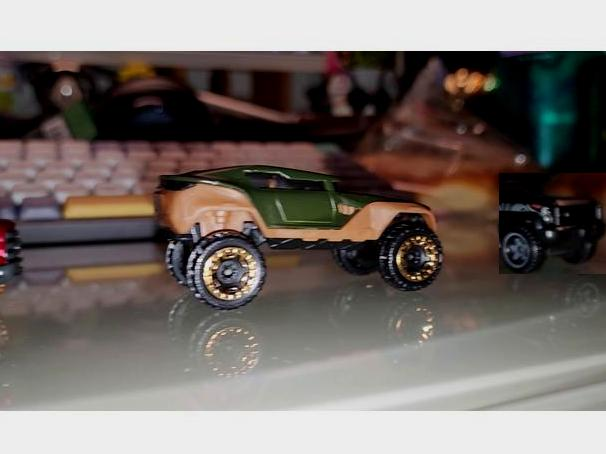toy-car: (152, 163, 446, 310), (499, 173, 606, 274)
